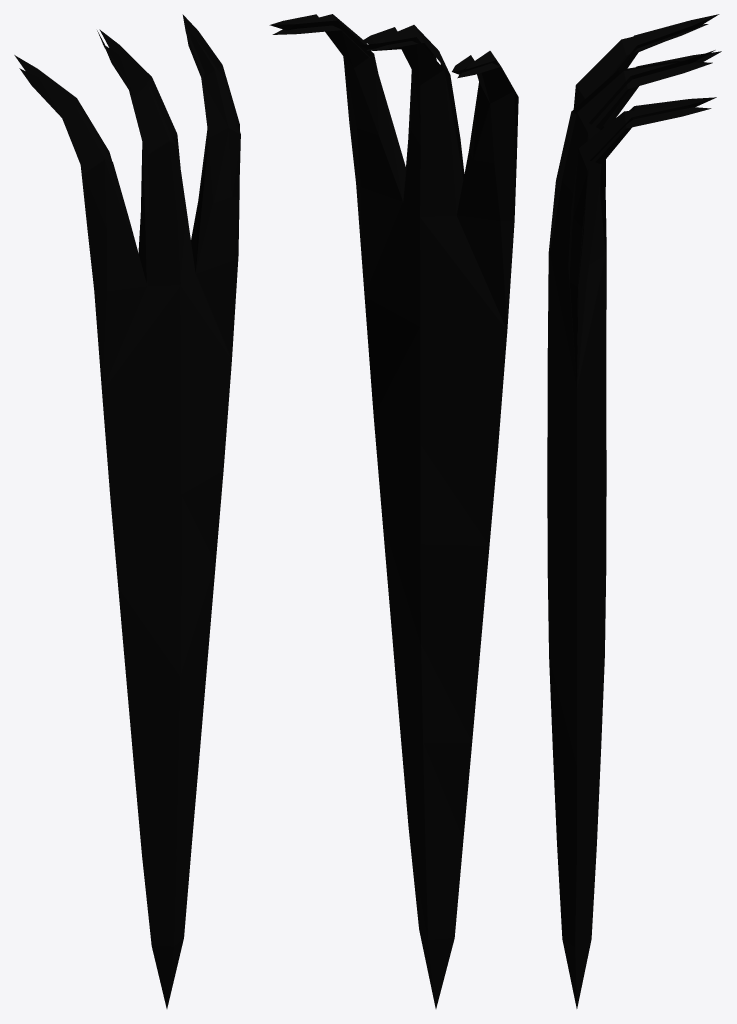
Rendered from 0202_ZHUAZI2.glb.
3 renders of one model, left to right at view 1: azimuth 30°, elevation 25°; view 2: azimuth 150°, elevation 25°; view 3: azimuth 270°, elevation 25°, orthographic. The views are drawn at different scales.
Size of the model in its own units: 0.4218 by 2.2 by 0.3637.
Materials: 1 (1 with a texture image).
